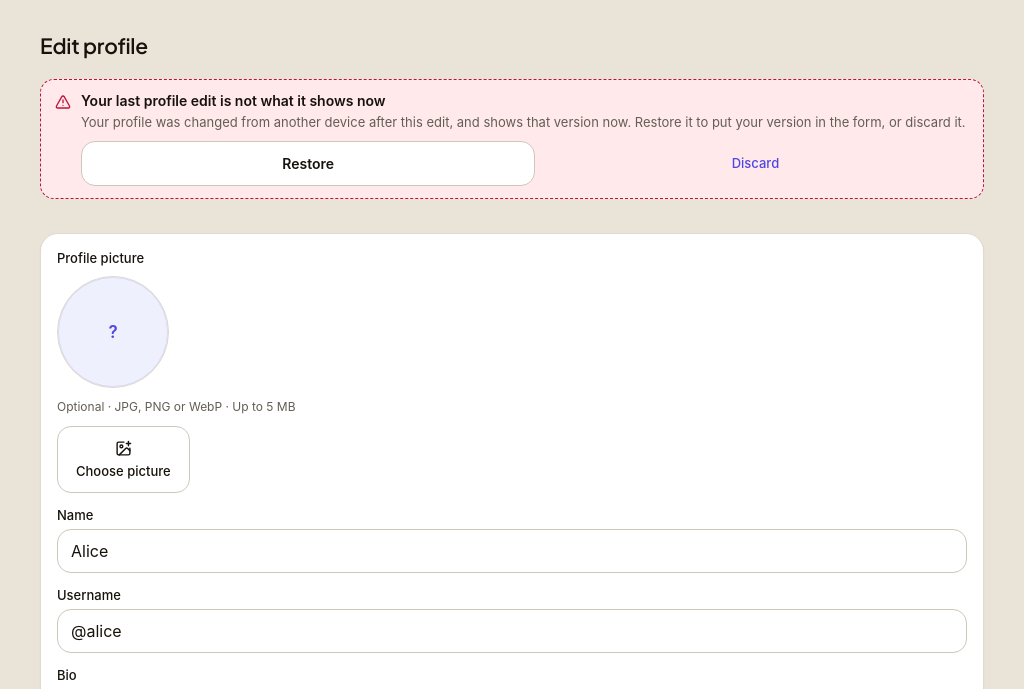
it: editing the profile › a profile edit overtaken from another device is offered as a choice
Check: the message shows "Your last profile edit is not what it shows now", box 81,92 -> 386,109
Click the button "Restore": point(308, 163) 81,141 -> 535,186
(page scrolled)
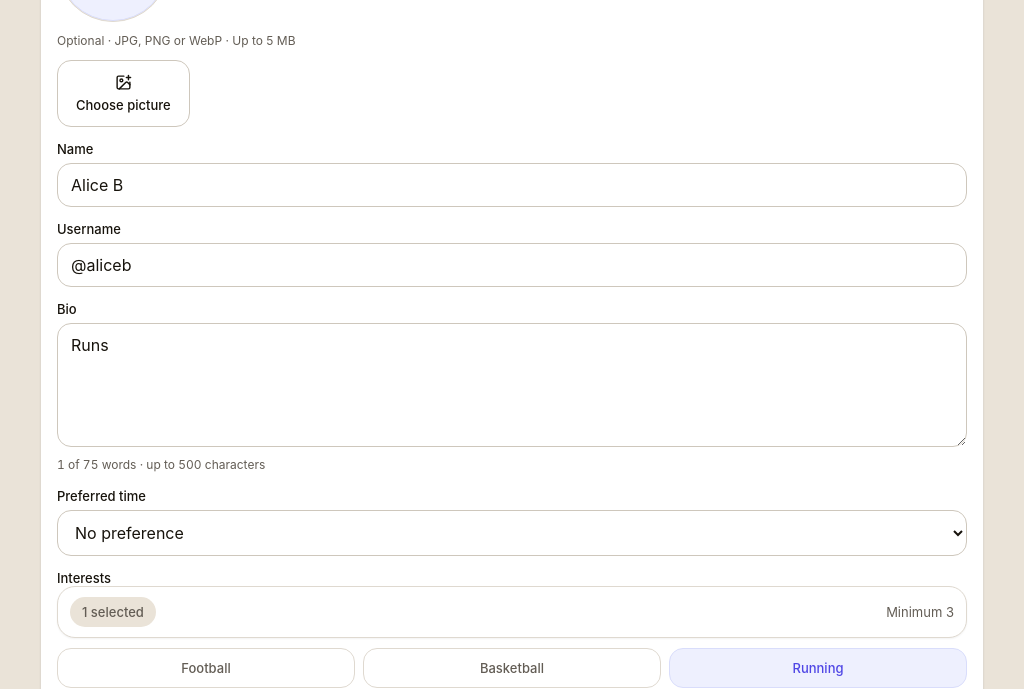
Check: the text box labelled "Bio" holds "Runs", box 57,323 -> 967,447
